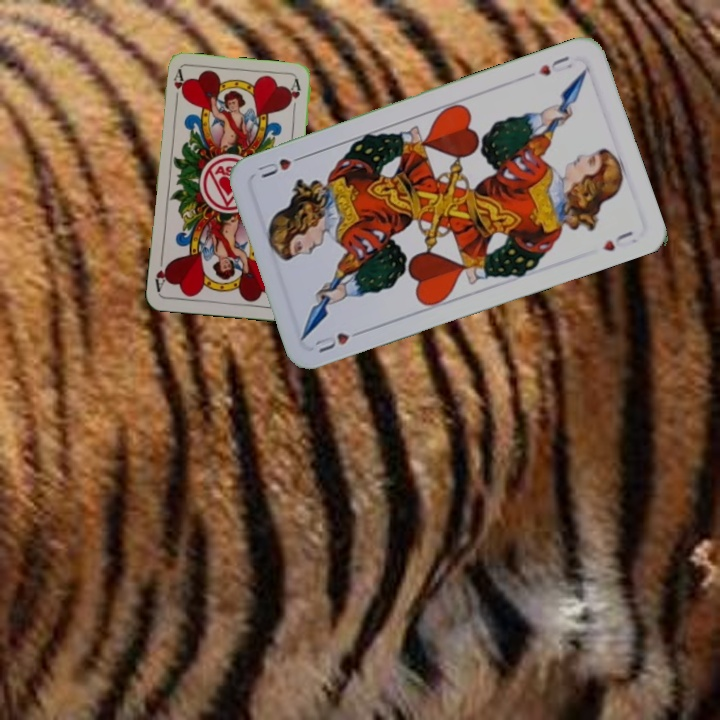HA: (170, 66, 188, 107)
HU: (309, 325, 368, 355), (534, 52, 575, 78)
